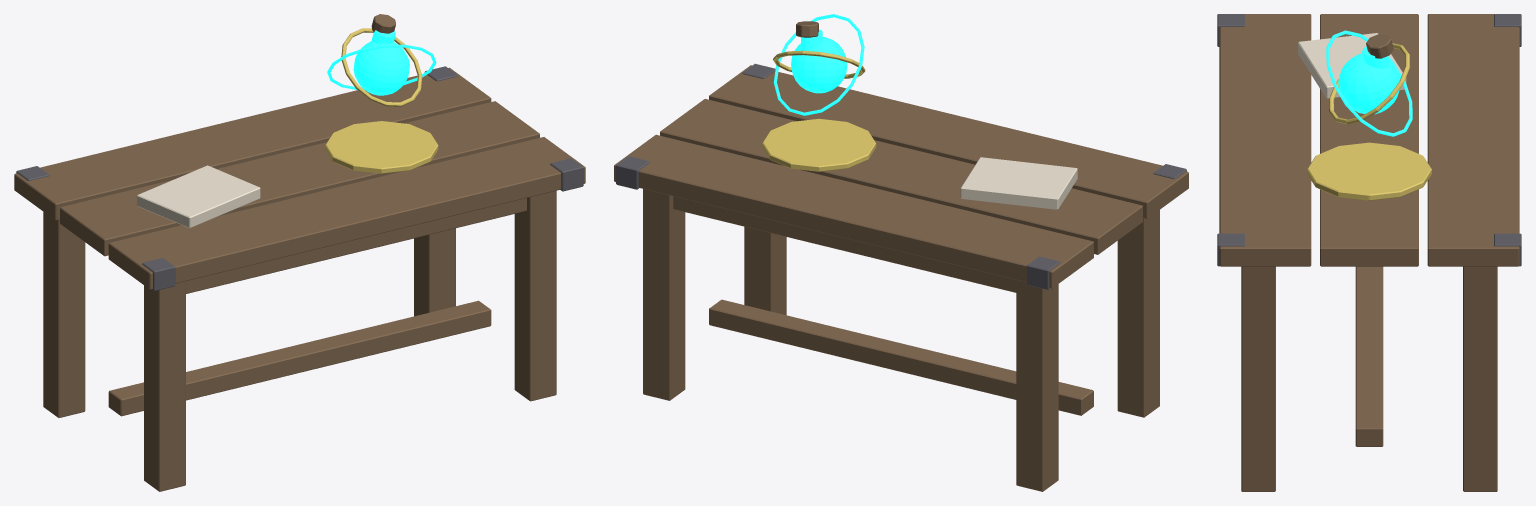
Rendered from prop_magic_alchemy_table.glb.
3 renders of one model, left to right at view 1: azimuth 30°, elevation 25°; view 2: azimuth 150°, elevation 25°; view 3: azimuth 270°, elevation 25°, orthographic. The views are drawn at different scales.
Parts seen in each view (by area): view 1: prop_magic_alchemy_table; view 2: prop_magic_alchemy_table; view 3: prop_magic_alchemy_table.
Boxes of the visible parts, x1,y1,x2,y2 form: prop_magic_alchemy_table: [14, 14, 585, 491]; prop_magic_alchemy_table: [614, 14, 1188, 491]; prop_magic_alchemy_table: [1217, 14, 1521, 491].
Size of the model in its own units: 1.6 by 1.26 by 0.878.
